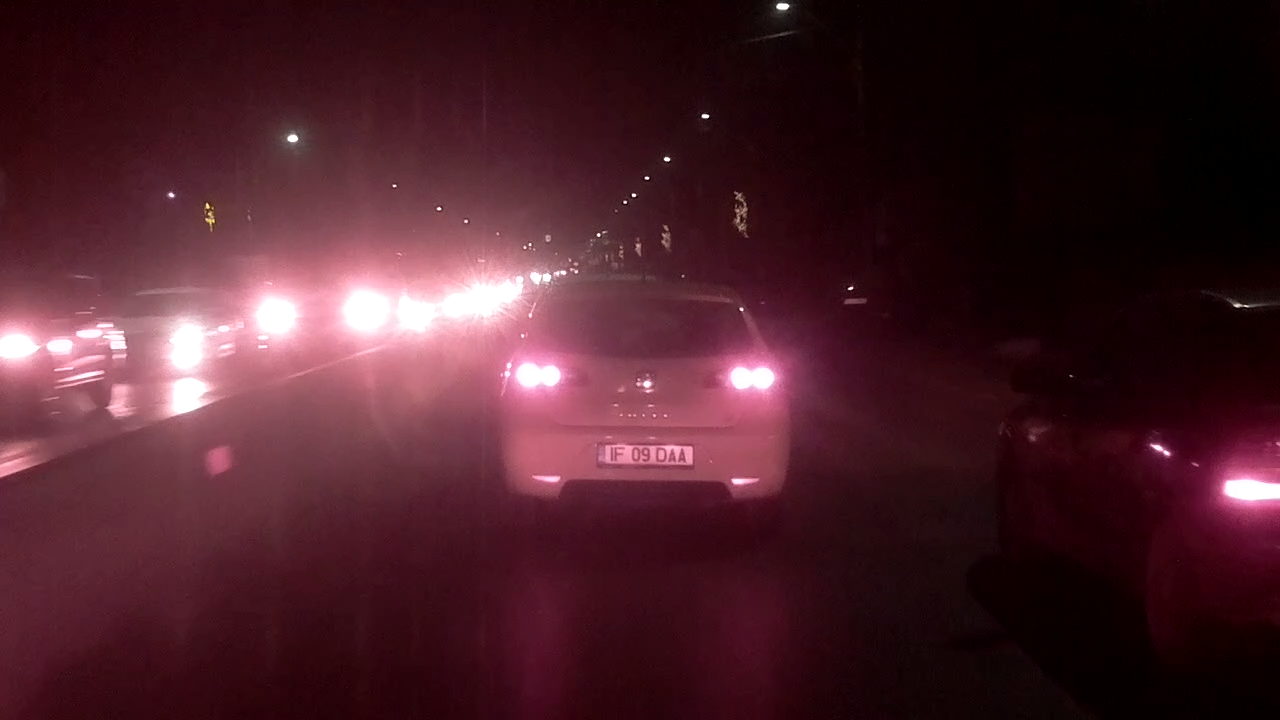license-plate: (592, 440, 698, 469)
